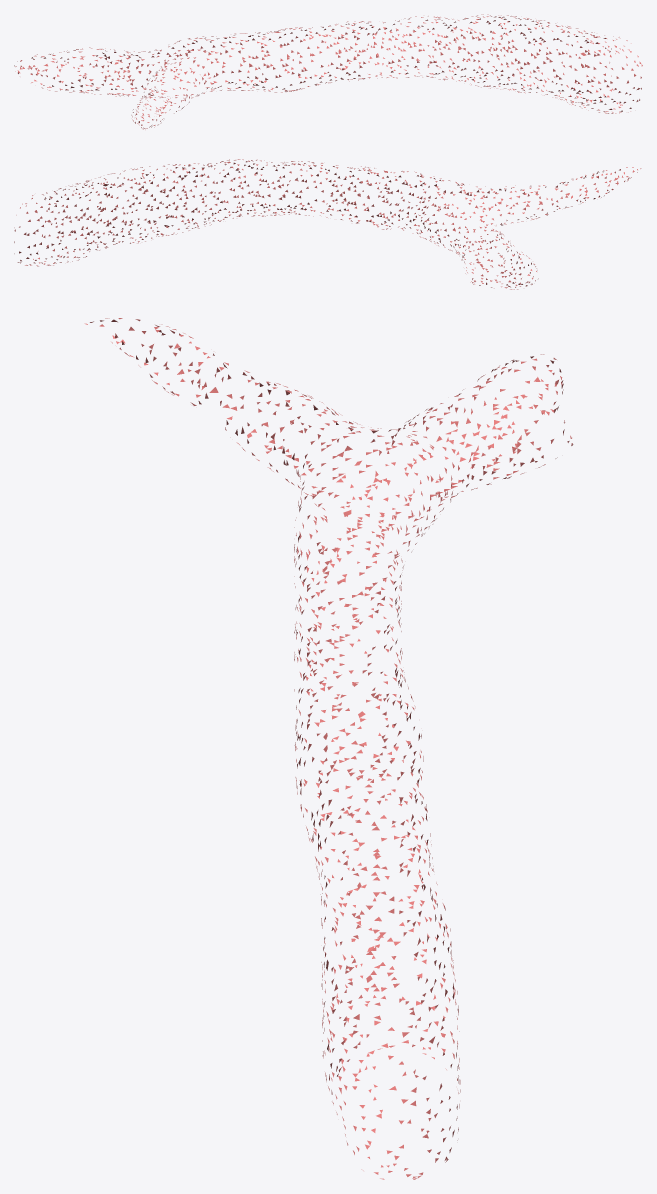
Rendered from morph_000.glb.
3 renders of one model, top to bottom at view 1: azimuth 30°, elevation 25°; view 2: azimuth 150°, elevation 25°; view 3: azimuth 270°, elevation 25°, orthographic. The views are drawn at different scales.
Bounding box in the file's own units: 133 × 40.7 × 52.03.
